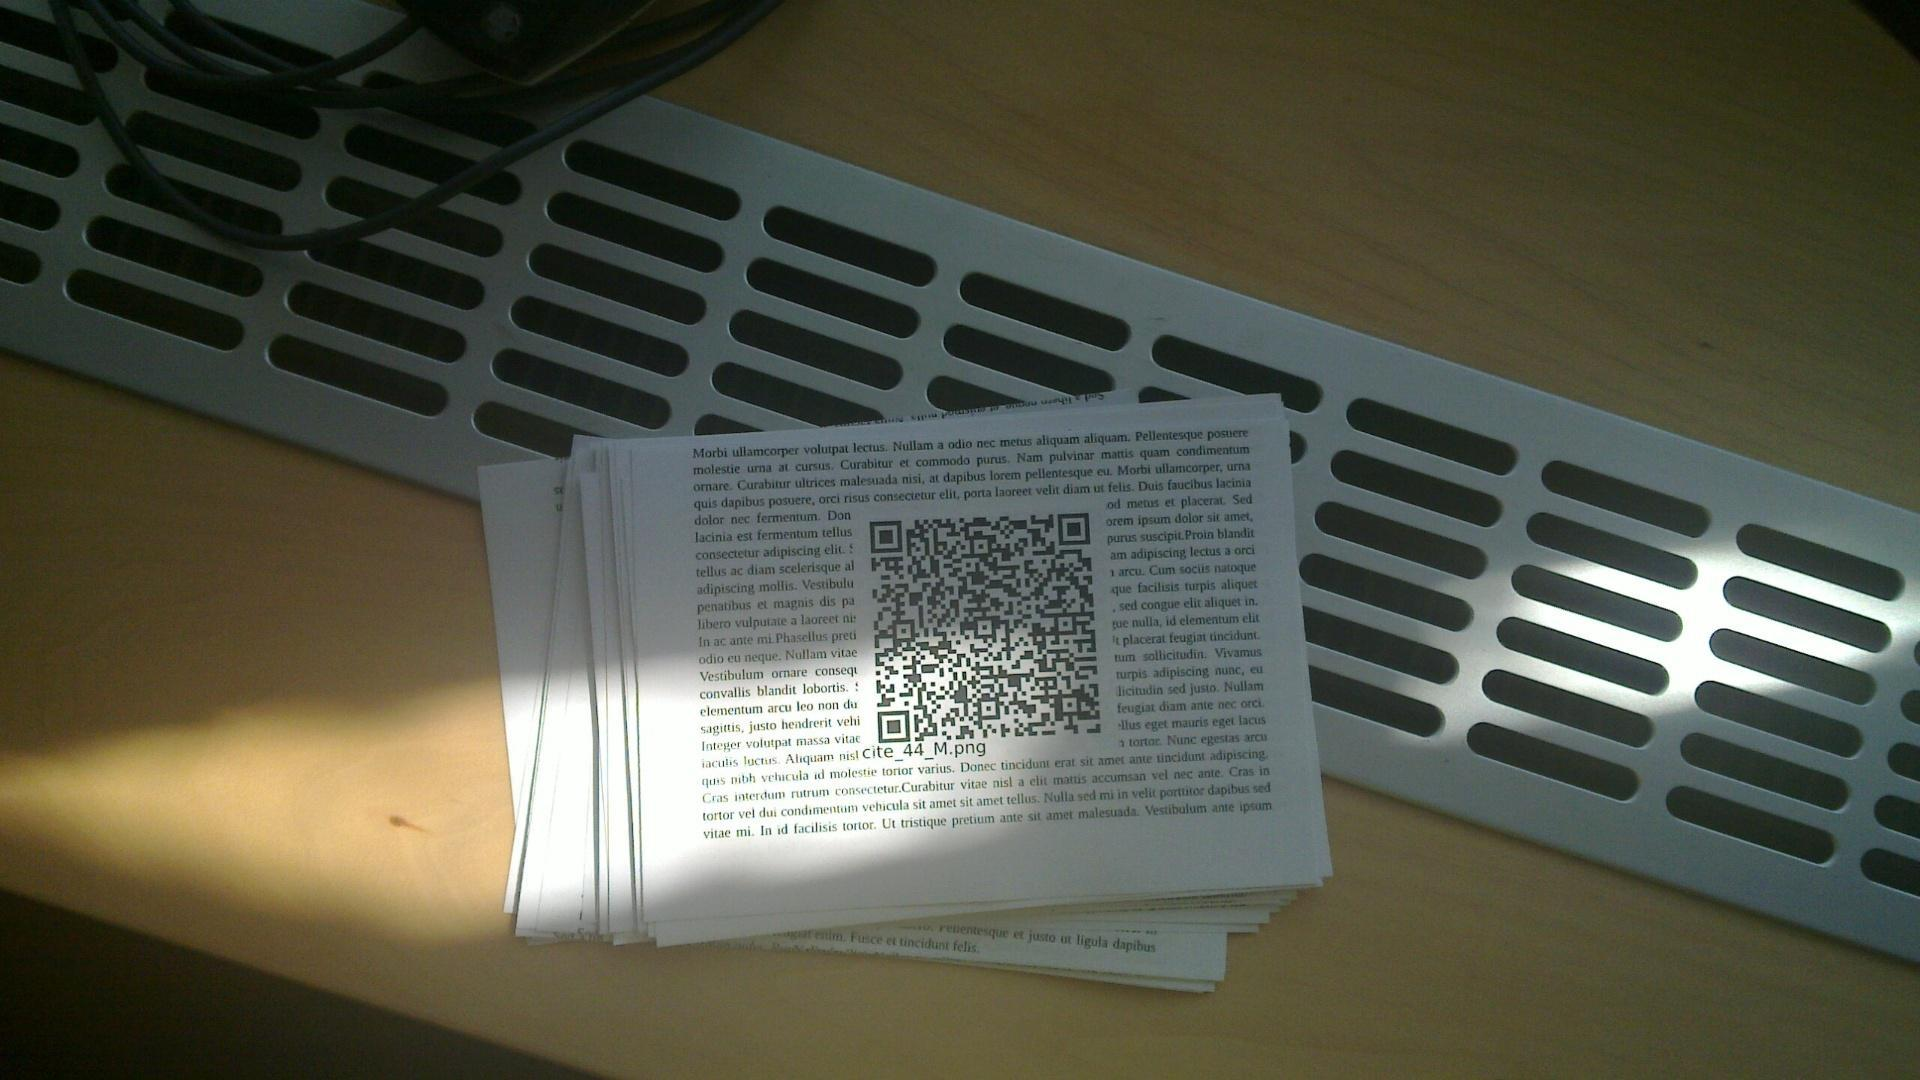Finder pattern: (872, 705, 915, 748), (1052, 506, 1093, 549), (866, 514, 903, 554)
